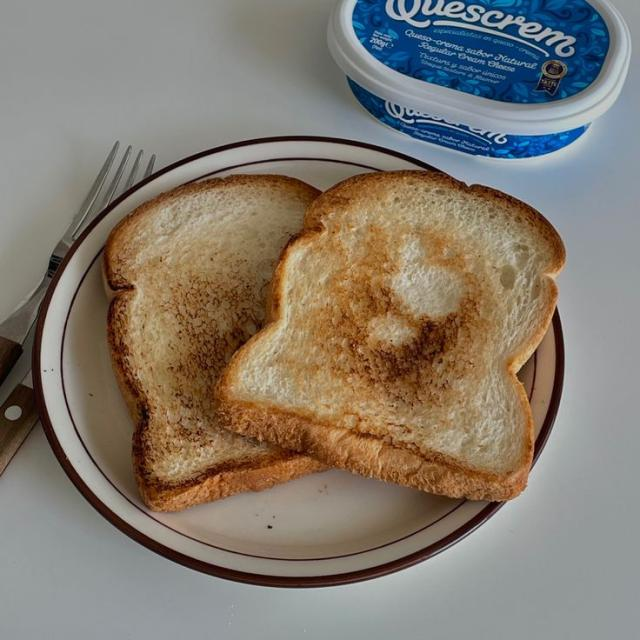toast bread: (104, 175, 323, 510), (366, 312, 417, 345)
